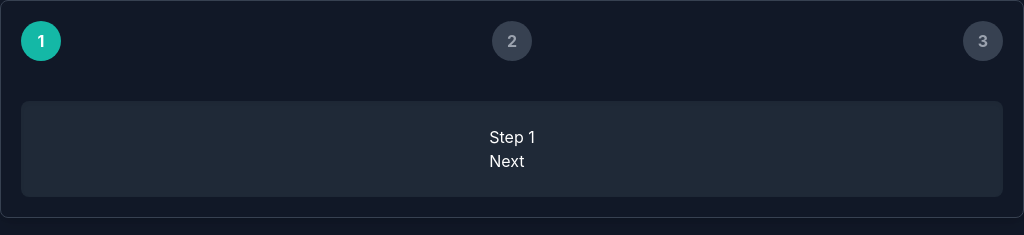
Test case: MultiStepForm › handles step navigation using the step indicator buttons
Note: Navigate directly to Step 3
Click the button "3" at {"x": 983, "y": 41}, box [963,21,1003,61]
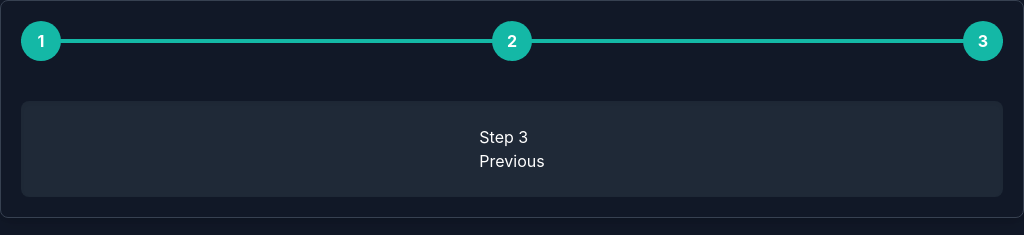
Now the text "Step 3" is shown, box [479,127,528,147]
Note: Navigate directly to Step 1
Click the button "1" at {"x": 41, "y": 41}, box [21,21,61,61]
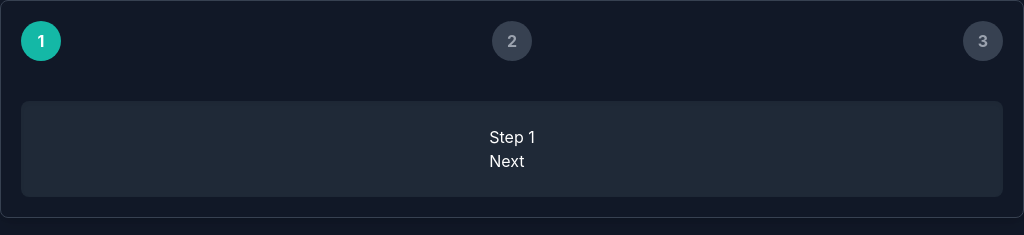
Now the text "Step 1" is shown, box [489,125,535,149]
